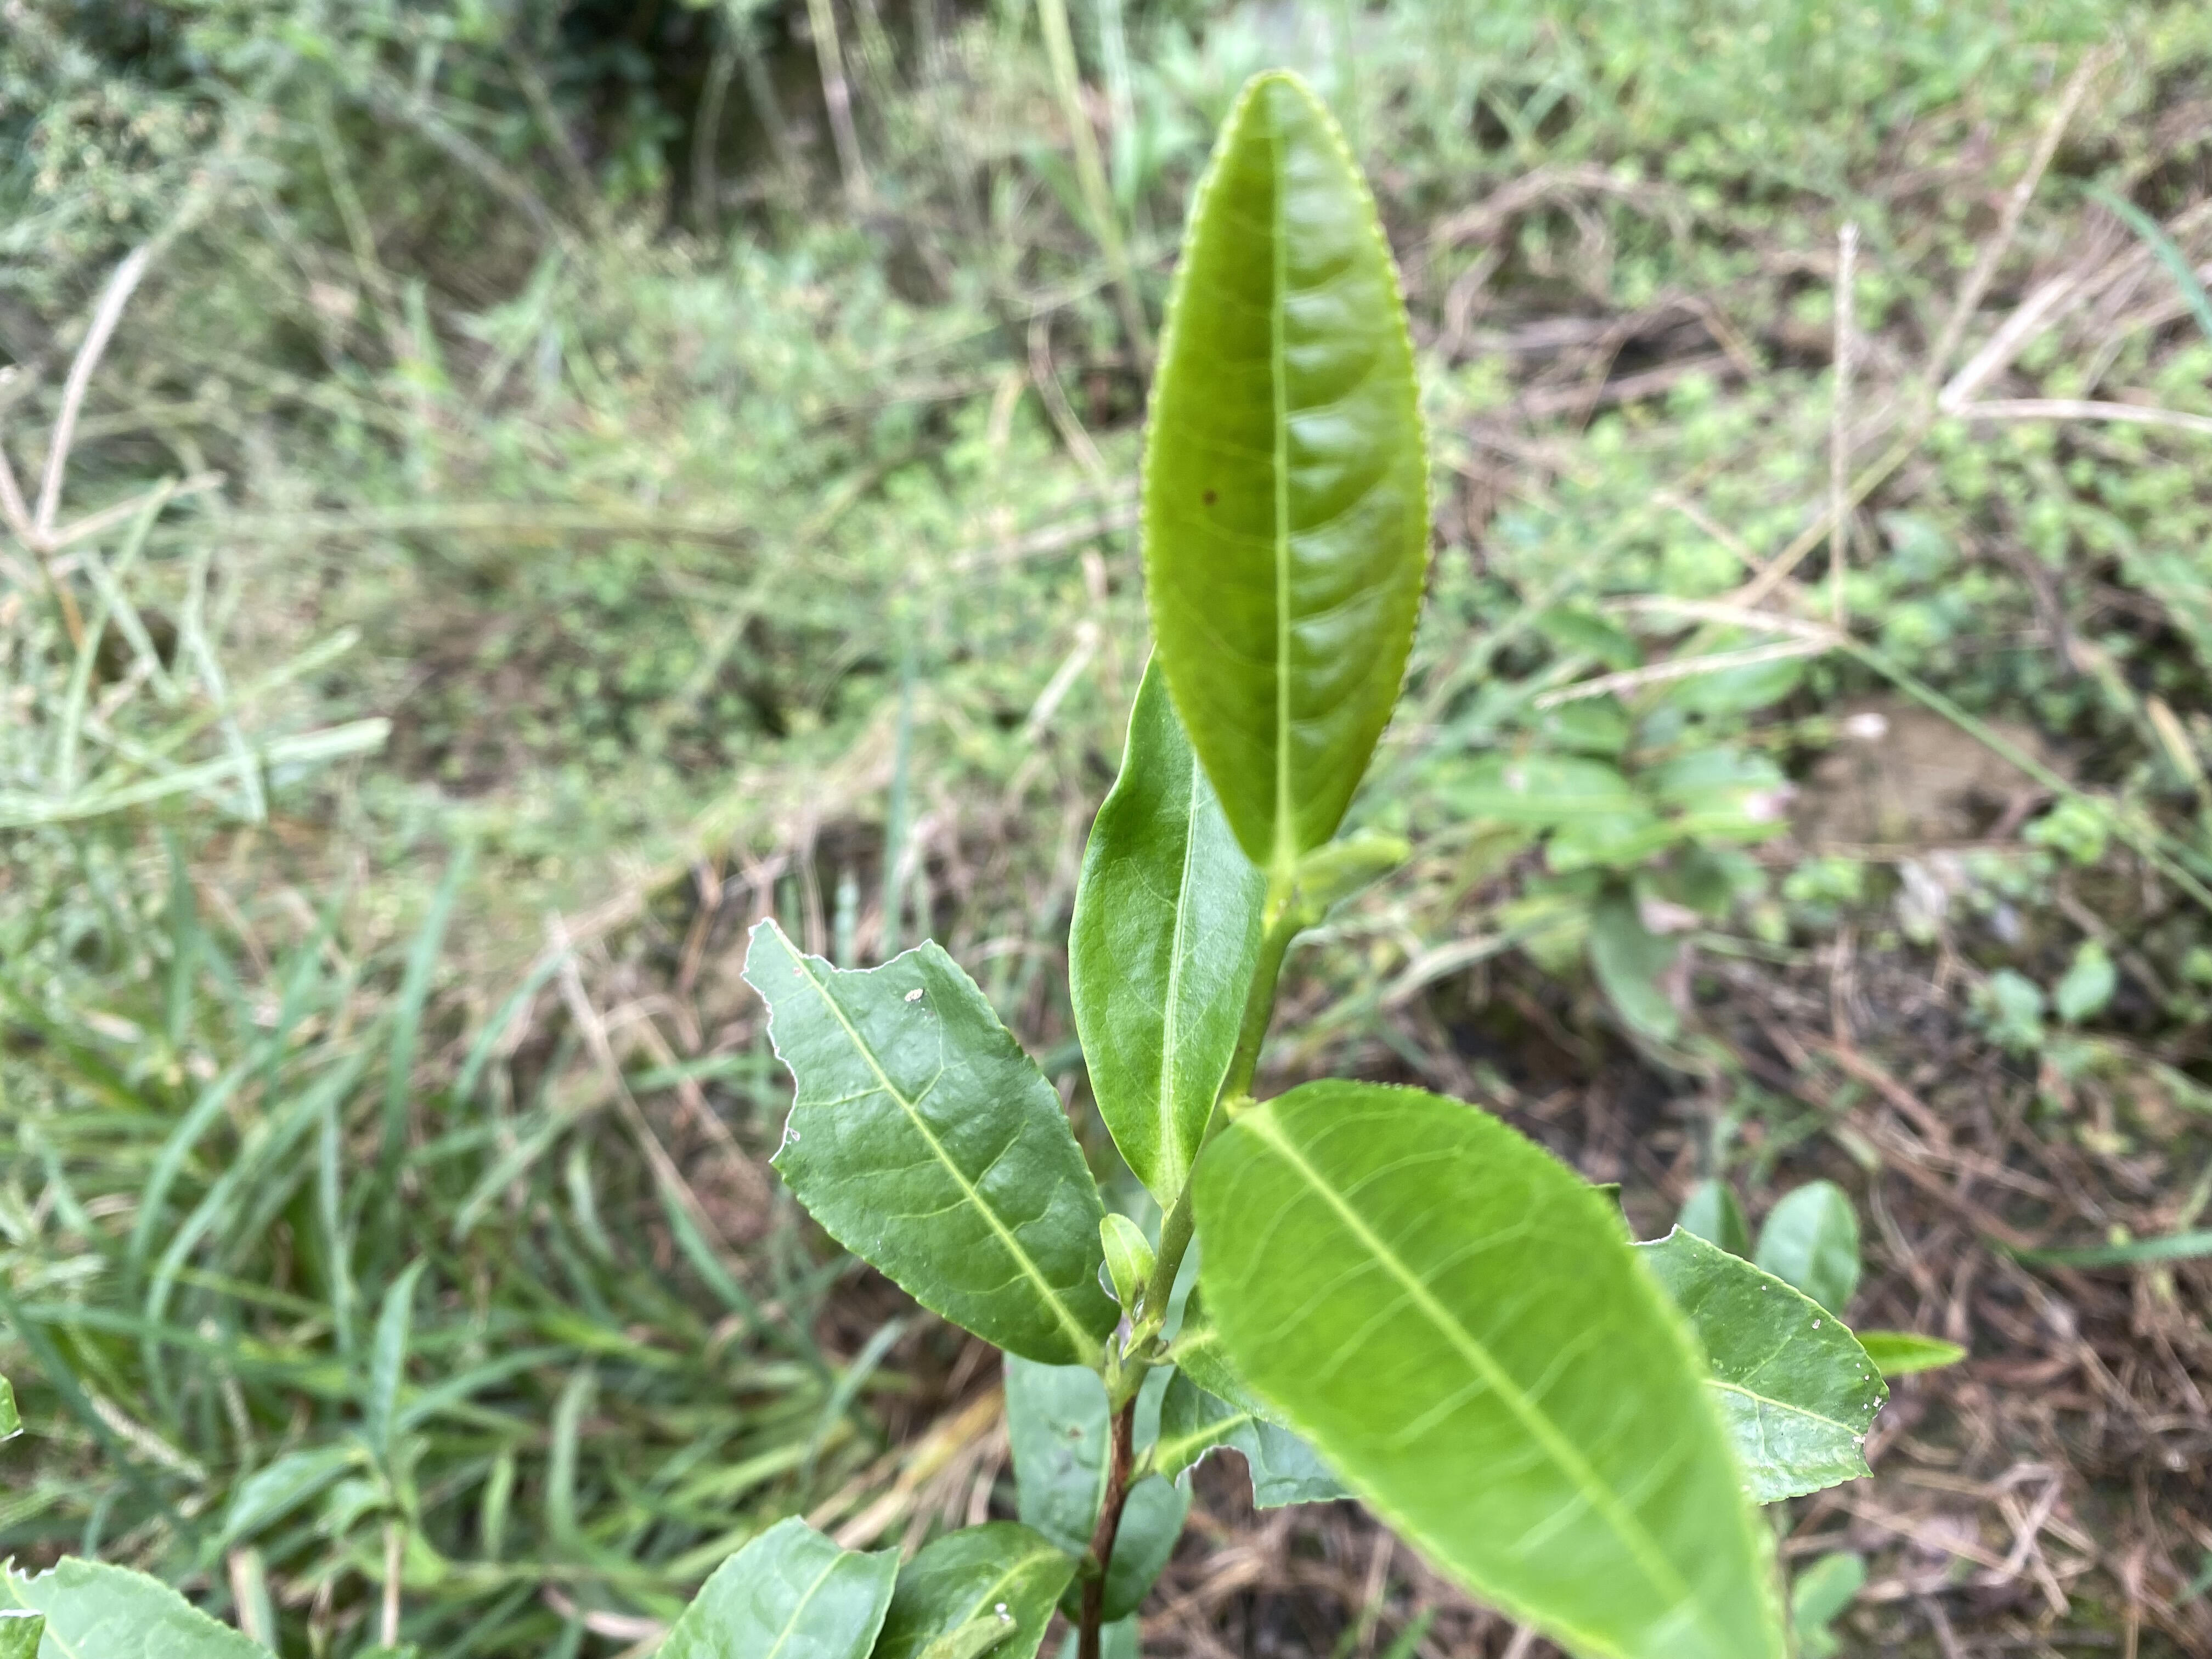chihuo_high: (1151, 1185, 1893, 1511), (740, 915, 1127, 1366)
healthy: (1193, 1072, 1784, 1657), (1137, 68, 1430, 871), (1069, 643, 1263, 1201)
